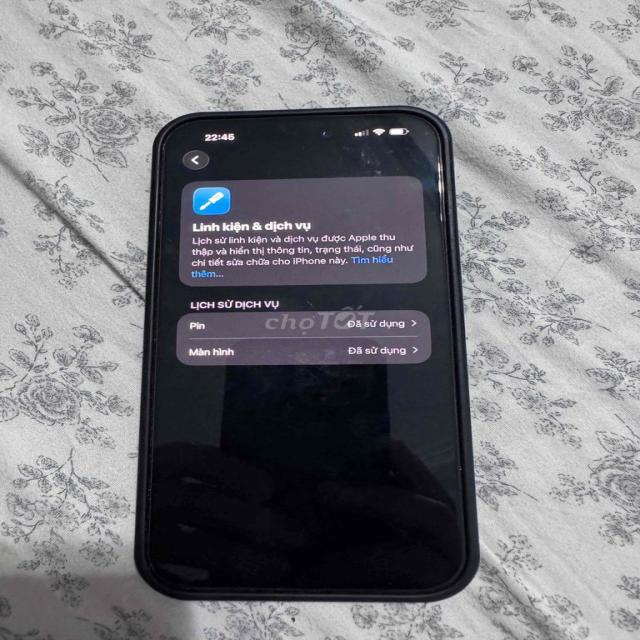gen_14: (125, 101, 496, 610)
